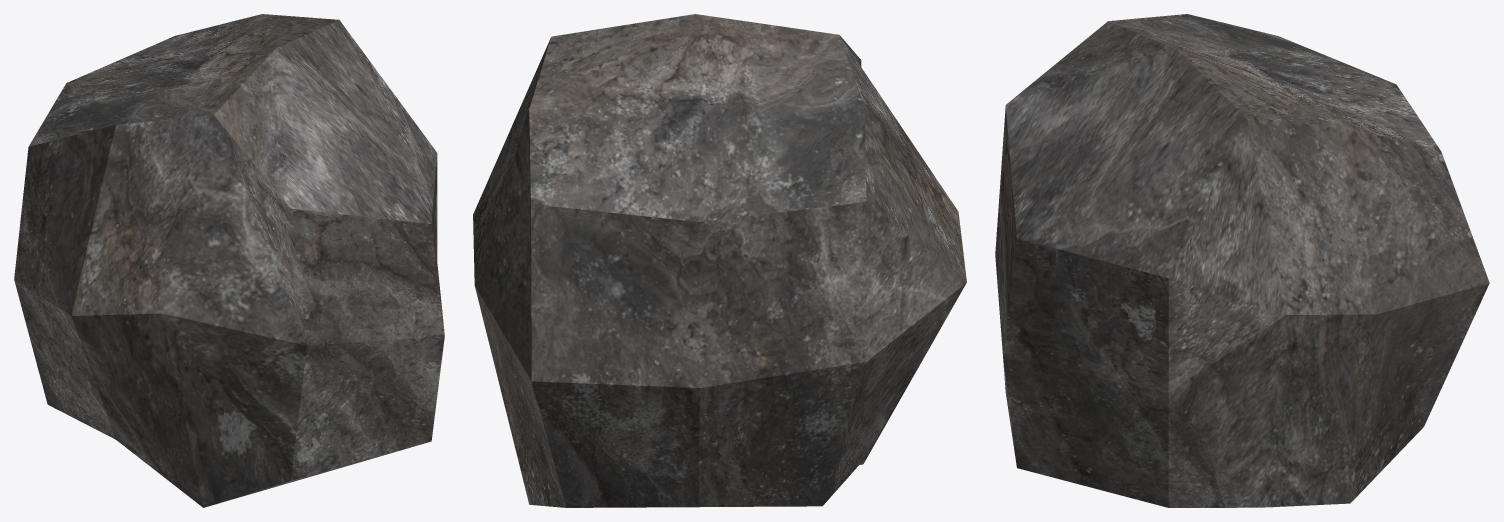
File: Rocks.fbx
3 renders of one model, left to right at view 1: azimuth 30°, elevation 25°; view 2: azimuth 150°, elevation 25°; view 3: azimuth 270°, elevation 25°, orthographic. The views are drawn at different scales.
Parts seen in each view (by area): view 1: Cube.020; view 2: Cube.020; view 3: Cube.020.
Part boxes in pixels (box(x1,y1,x2,y2)): Cube.020: box(14, 14, 444, 507); Cube.020: box(473, 14, 966, 507); Cube.020: box(995, 14, 1489, 507).
Size of the model in its own units: 201 by 208 by 214.
